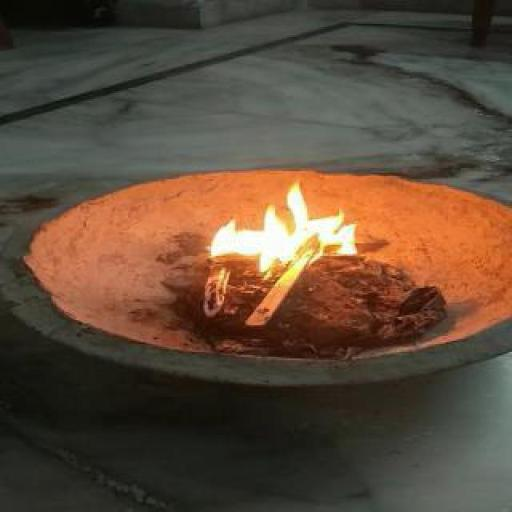smoke: (171, 172, 384, 298)
